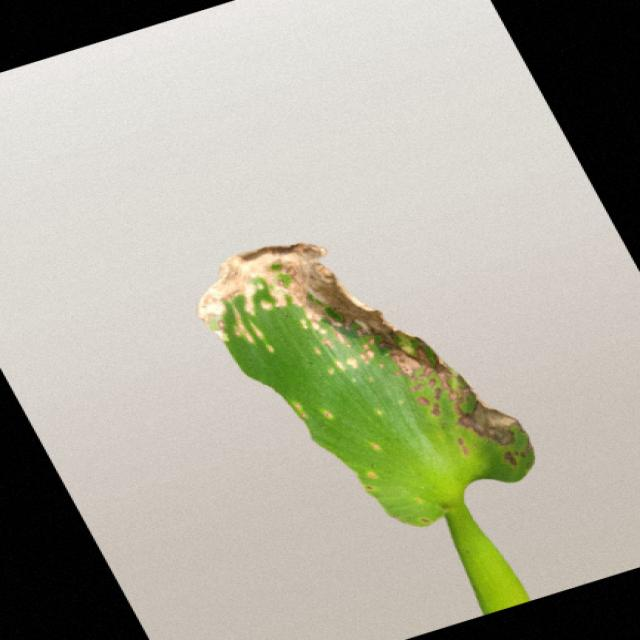daun berpenyakit bercak: (198, 244, 533, 612)
